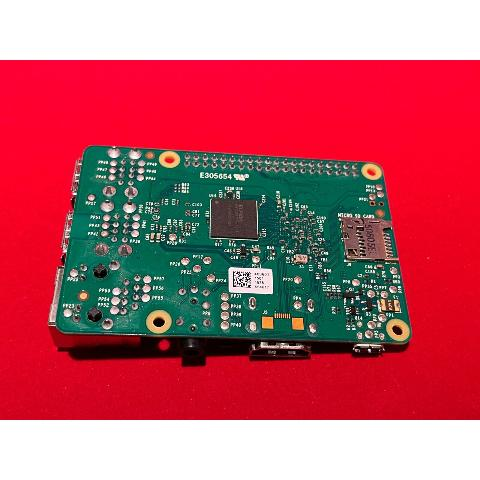Raspberry-Pi-2-Model-B: (40, 136, 424, 373)
